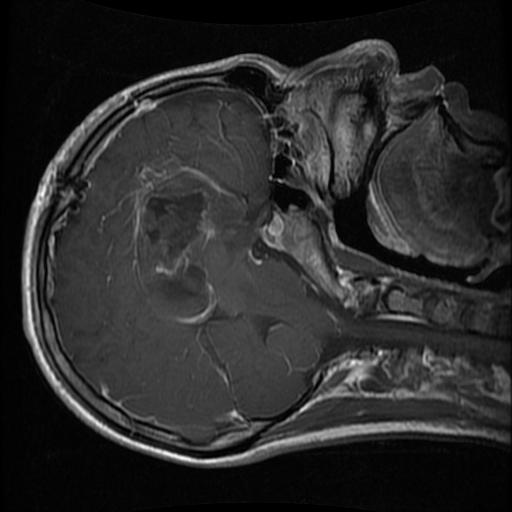glioma: (140, 190, 210, 306)
